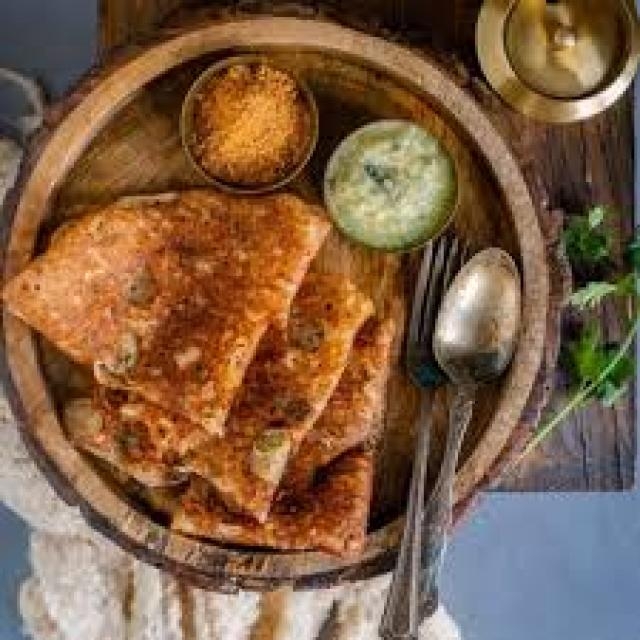DOSA: (3, 191, 327, 438), (179, 293, 401, 552), (182, 273, 373, 521)
